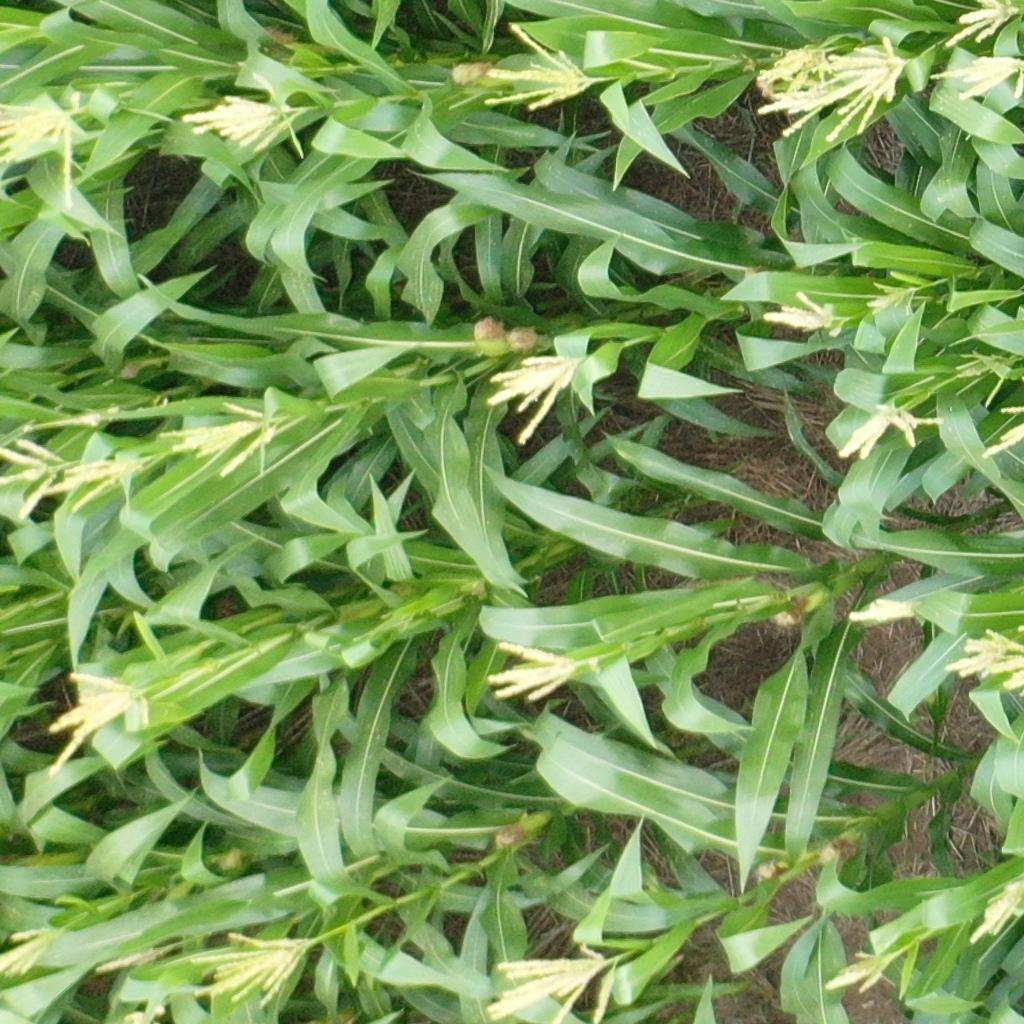Tassel: (755, 34, 907, 146), (44, 670, 156, 780), (176, 70, 312, 157), (482, 940, 618, 1024), (477, 22, 602, 113), (479, 349, 588, 449), (1, 91, 89, 212), (155, 401, 291, 478), (188, 928, 314, 1007), (485, 639, 582, 710), (835, 401, 945, 461), (942, 625, 1024, 704), (34, 458, 149, 513), (1, 434, 71, 519), (752, 41, 833, 104), (926, 54, 1024, 106), (952, 350, 1017, 411), (1, 921, 67, 981), (818, 948, 895, 999), (968, 875, 1022, 946), (760, 290, 843, 336), (942, 1, 1024, 46), (981, 399, 1024, 460), (864, 276, 922, 316), (844, 594, 916, 625), (88, 948, 169, 974), (367, 604, 421, 639)
